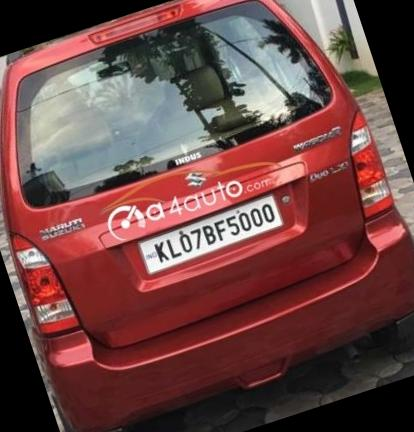plate: (125, 183, 300, 285)
